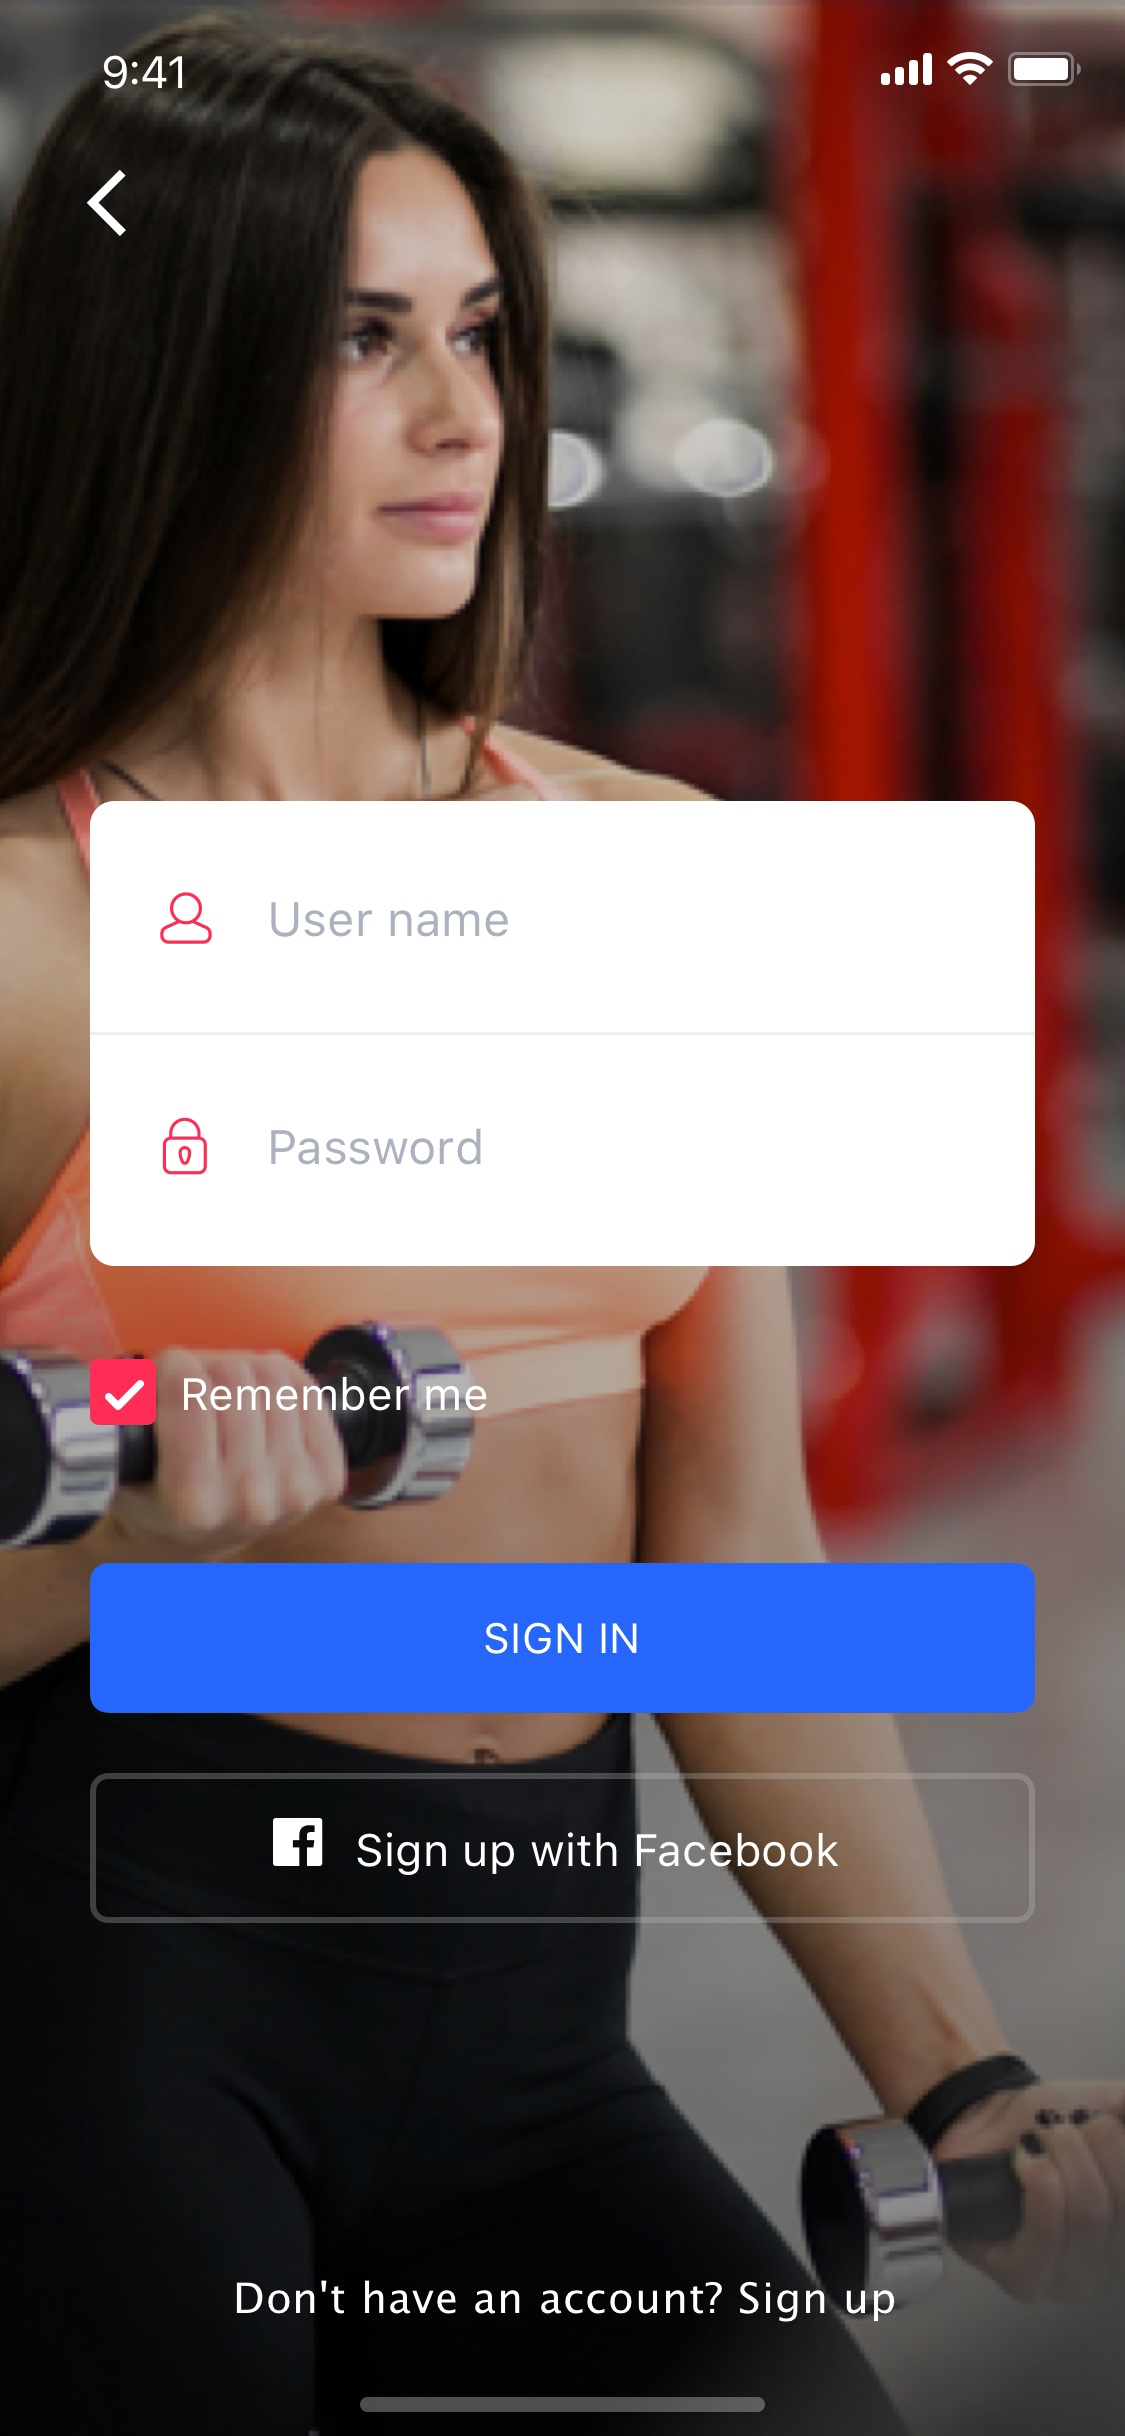BackgroundImage: (2, 2, 1125, 2436)
CheckedTextView: (90, 1358, 488, 1428)
EditText: (92, 1033, 1036, 1268), (92, 802, 1036, 1035)
Icon: (160, 892, 214, 945), (87, 169, 127, 238), (163, 1117, 210, 1176)
Text: (236, 2278, 895, 2323), (183, 1376, 488, 1412), (270, 900, 508, 938), (270, 1129, 483, 1167)
TextButton: (90, 1561, 1036, 1714), (90, 1773, 1036, 1923)
UpperTaskBar: (104, 51, 1081, 92)
